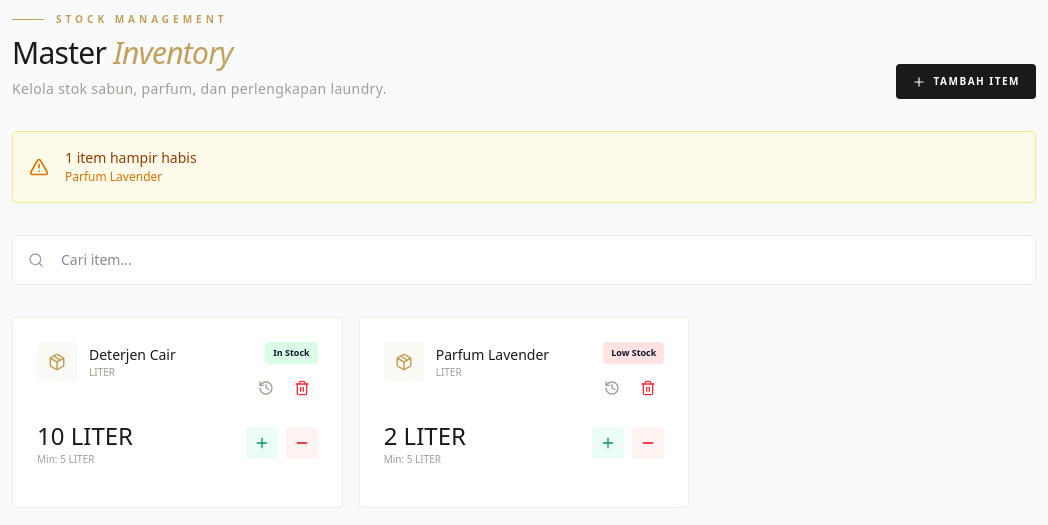
Test: Inventory Page › filters items when searching
Expected: the heading "Deterjen Cair" is shown, left=89, top=344, right=176, bottom=364
// Search for "Parfum"
Type "Parfum" into the field with placeholder "Cari item..." at (524, 260), box left=12, top=235, right=1036, bottom=285
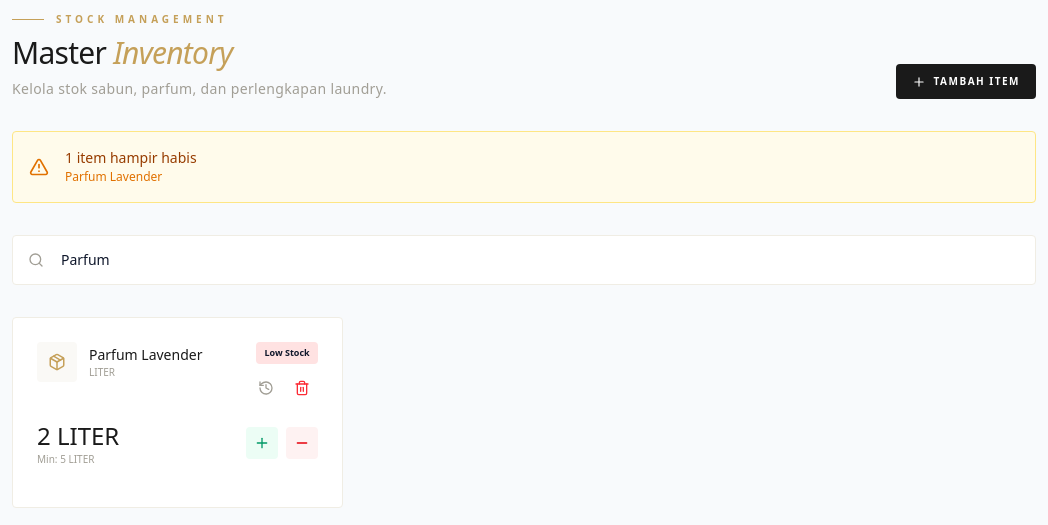
Result: the heading "Deterjen Cair" is gone
